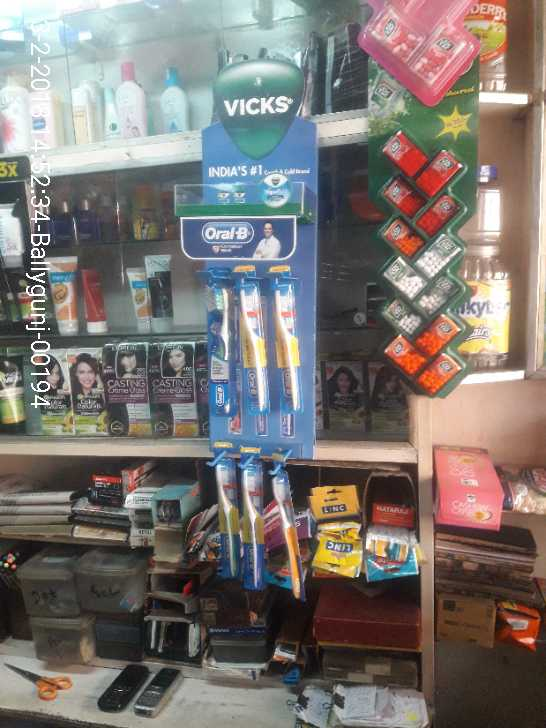pharmacy: (236, 274, 278, 419), (274, 276, 311, 417), (271, 470, 312, 594), (207, 279, 244, 409), (212, 456, 239, 582), (243, 468, 270, 589)
